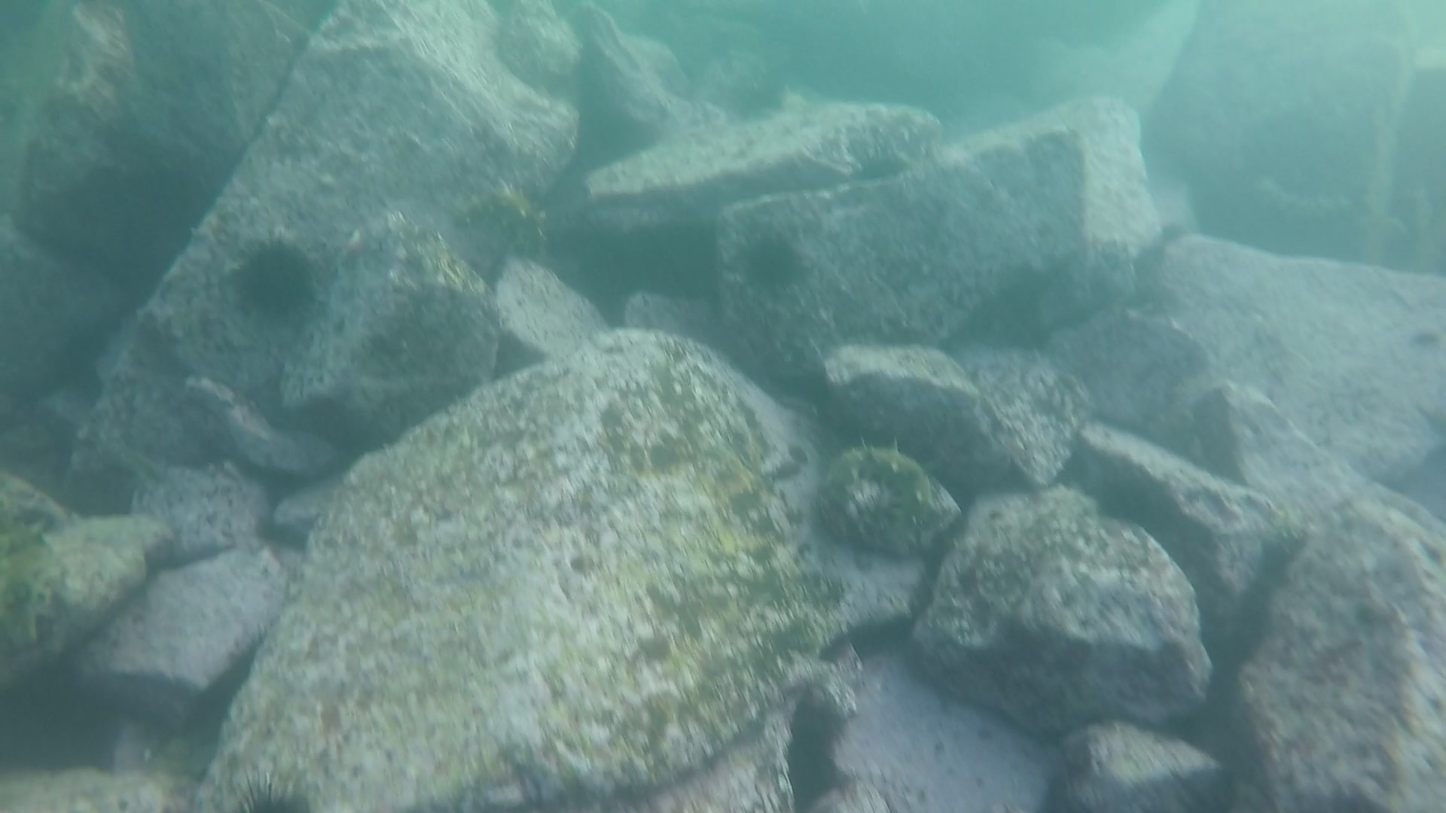echinus: (828, 437, 933, 556), (451, 177, 557, 254)
starfish: (746, 696, 864, 799), (230, 234, 323, 316), (732, 227, 807, 300)
